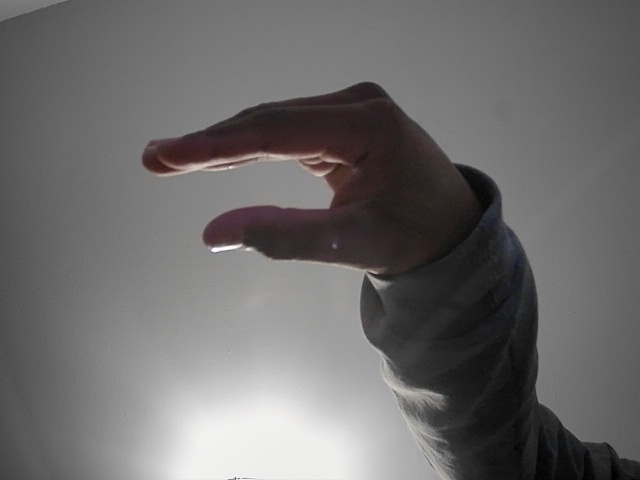No: (111, 74, 520, 275)
